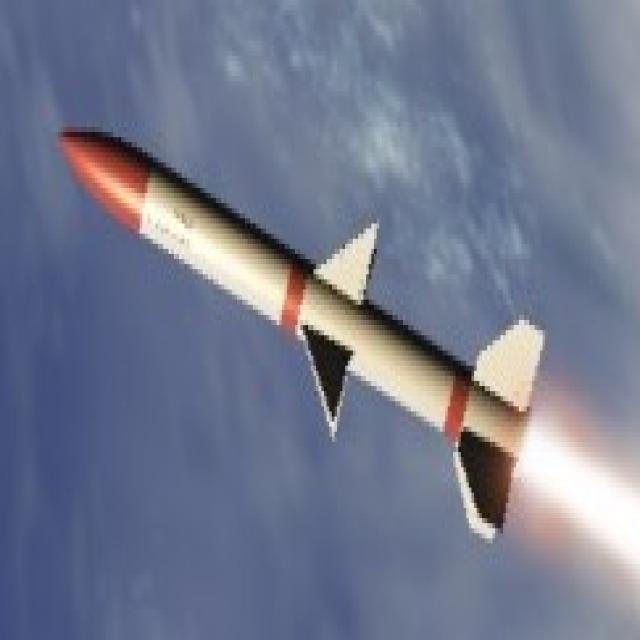missile: (52, 114, 584, 547)
